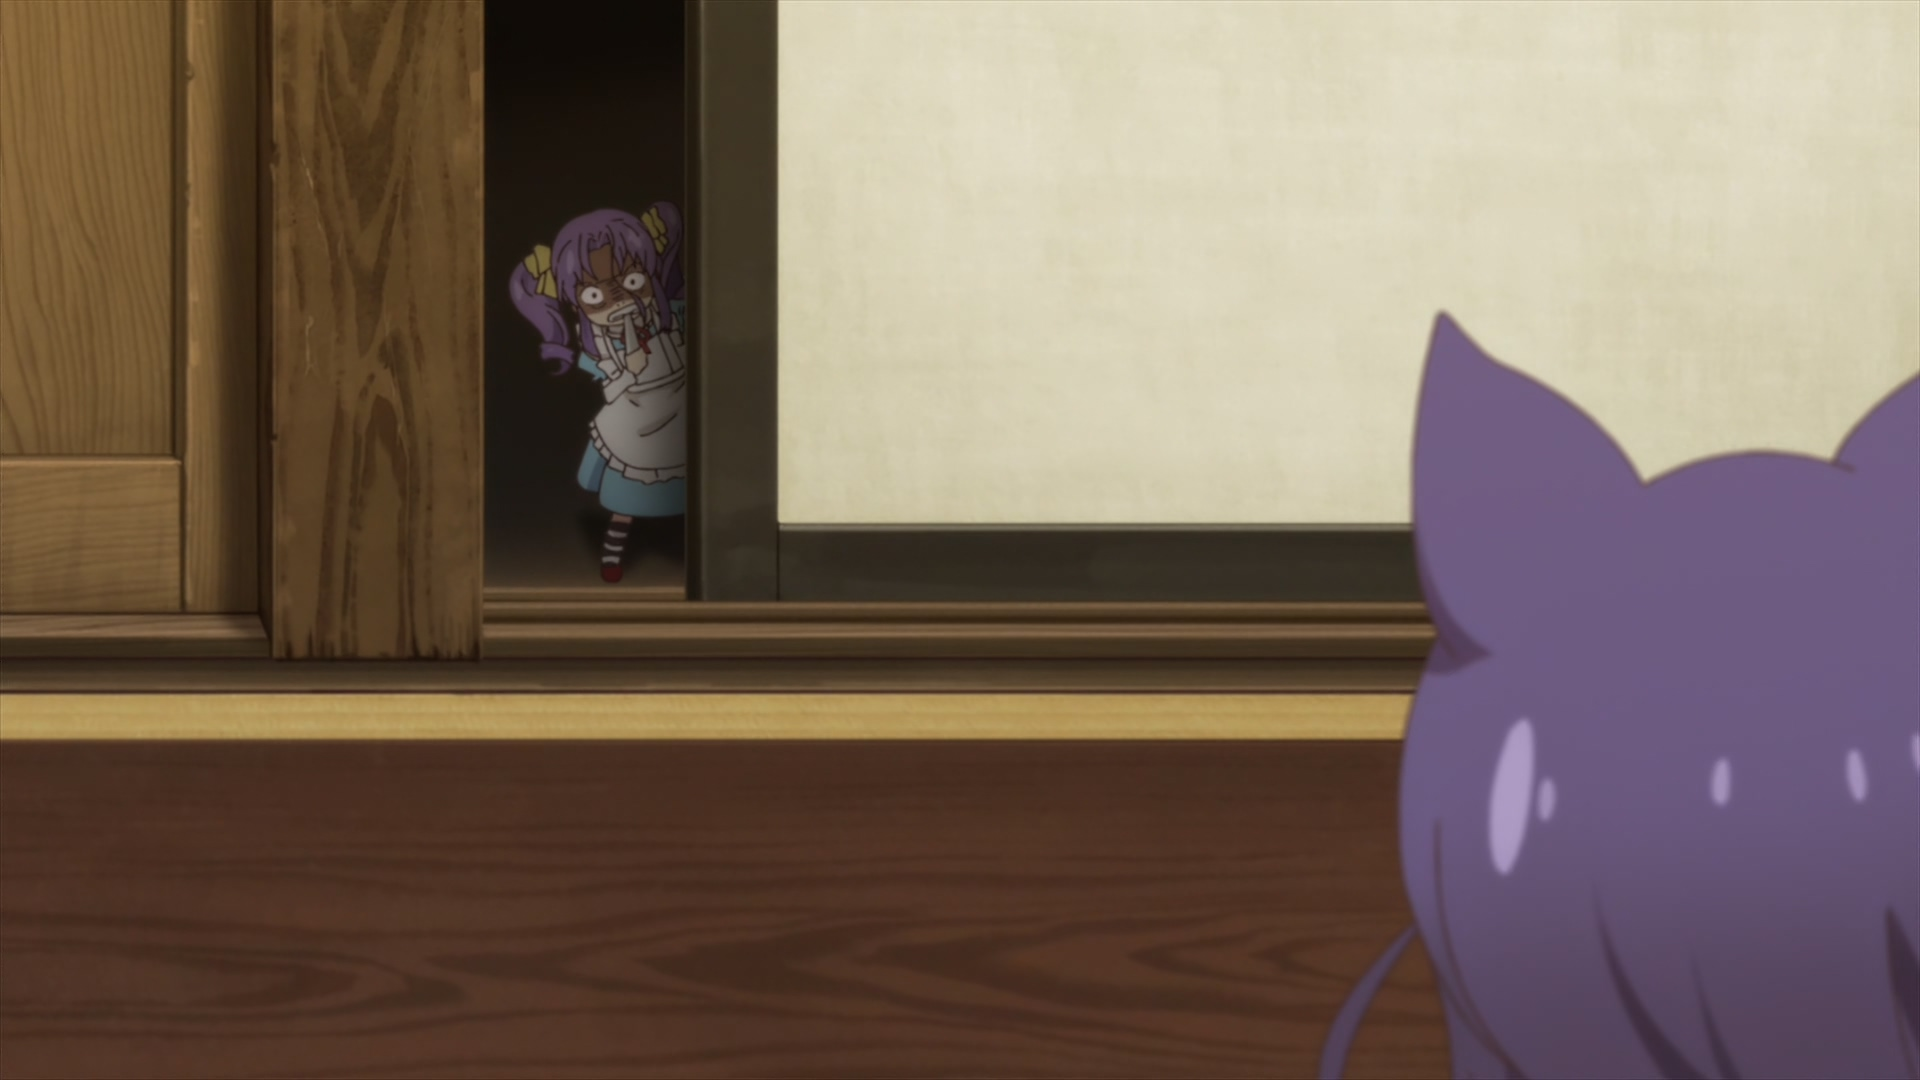皋: (1315, 311, 1920, 1080)
阿菊: (509, 200, 694, 579)
